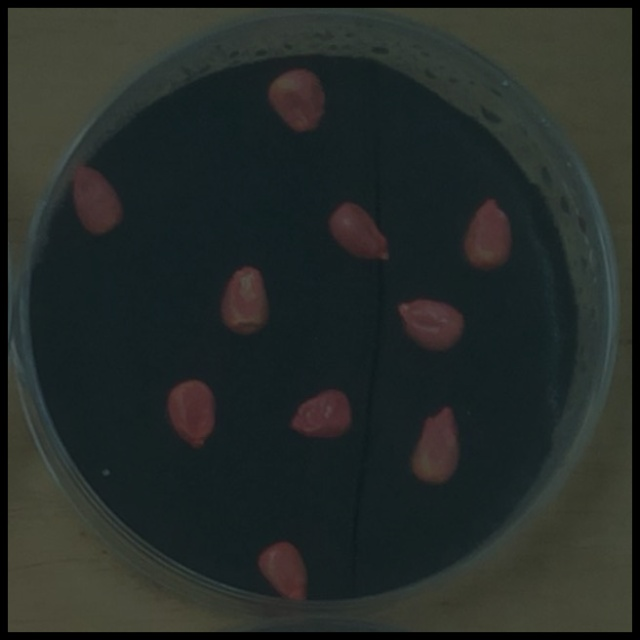Zea mays: (260, 60, 334, 142), (403, 400, 468, 493), (321, 196, 398, 270), (389, 292, 472, 359), (456, 191, 519, 279), (66, 156, 131, 241), (212, 260, 277, 343), (160, 373, 223, 457), (249, 533, 317, 609), (282, 382, 359, 446)
